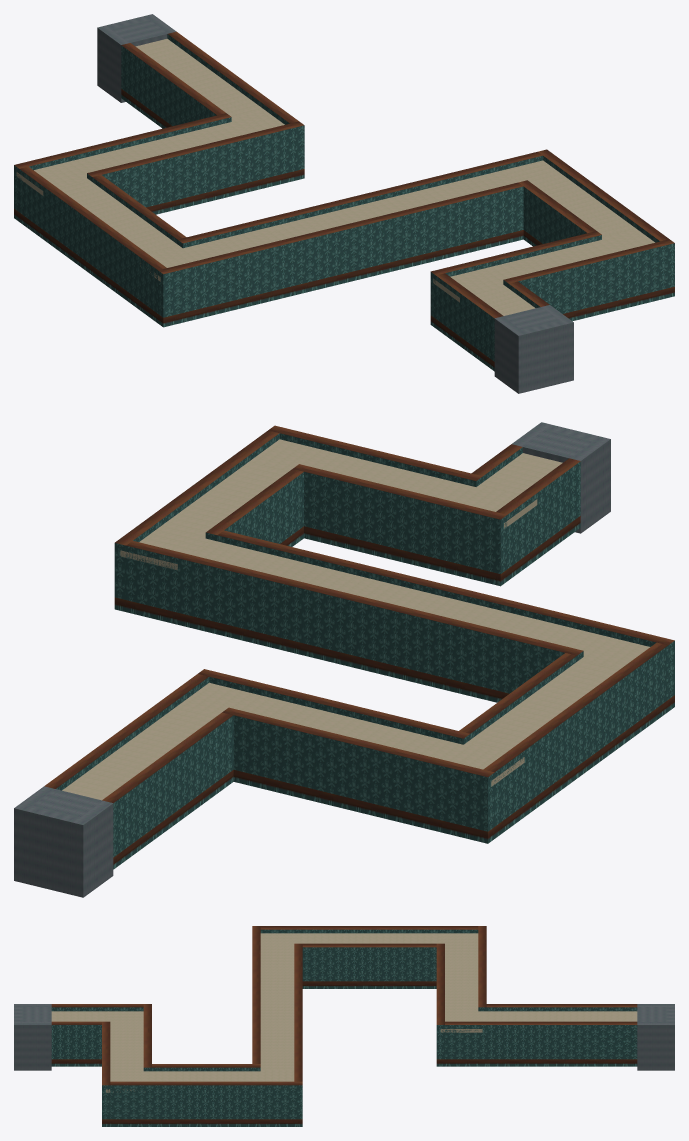
File: level4.fbx
3 renders of one model, top to bottom at view 1: azimuth 30°, elevation 25°; view 2: azimuth 150°, elevation 25°; view 3: azimuth 270°, elevation 25°, orthographic. The views are drawn at different scales.
Visible parts, largest first — view 1: Cube.027, Cube.011, Cube.022, Cube.033, Cube.026, Cube.001, Cube.003, Cube.028, Cube.005, Cube.032, Cube.030, Cube.002 (+14 smaller); view 2: Cube.028, Cube.012, Cube.034, Cube.022, Cube.001, Cube.026, Cube.003, Cube.027, Cube.014, Cube.030, Cube.032, Cube.023 (+15 smaller); view 3: Cube.025, Cube, Cube.021, Cube.026, Cube.003, Cube.032, Cube.031, Cube.022, Cube.002, Cube.023, Cube.020, Cube.006 (+15 smaller).
Boxes of the visible parts, x1=… form: Cube.027: x1=158, y1=182, x2=523, y2=327; Cube.011: x1=87, y1=121, x2=304, y2=214; Cube.022: x1=19, y1=166, x2=166, y2=323; Cube.033: x1=503, y1=239, x2=674, y2=321; Cube.026: x1=140, y1=170, x2=517, y2=281; Cube.001: x1=121, y1=43, x2=225, y2=128; Cube.003: x1=16, y1=111, x2=284, y2=195; Cube.028: x1=177, y1=151, x2=542, y2=248; Cube.005: x1=513, y1=318, x2=573, y2=393; Cube.032: x1=433, y1=228, x2=654, y2=302; Cube.030: x1=436, y1=273, x2=503, y2=371; Cube.002: x1=135, y1=38, x2=265, y2=118; Cube.028: x1=126, y1=541, x2=583, y2=702; Cube.012: x1=222, y1=707, x2=494, y2=843; Cube.034: x1=293, y1=464, x2=507, y2=586; Cube.022: x1=483, y1=642, x2=668, y2=838; Cube.001: x1=102, y1=712, x2=233, y2=869; Cube.026: x1=191, y1=540, x2=649, y2=668; Cube.003: x1=179, y1=682, x2=524, y2=786; Cube.027: x1=217, y1=530, x2=674, y2=711; Cube.014: x1=14, y1=803, x2=89, y2=897; Cube.030: x1=496, y1=458, x2=580, y2=580; Cube.032: x1=250, y1=439, x2=537, y2=528; Cube.023: x1=120, y1=461, x2=289, y2=570; Cube.025: x1=110, y1=1081, x2=302, y2=1126; Cube: x1=445, y1=1021, x2=637, y2=1066; Cube.021: x1=302, y1=943, x2=436, y2=988; Cube.026: x1=260, y1=933, x2=298, y2=1069; Cube.003: x1=440, y1=933, x2=482, y2=1032; Cube.032: x1=106, y1=1011, x2=147, y2=1092; Cube.031: x1=51, y1=1021, x2=101, y2=1066; Cube.022: x1=260, y1=926, x2=478, y2=933; Cube.002: x1=482, y1=1011, x2=637, y2=1021; Cube.023: x1=148, y1=1069, x2=294, y2=1081; Cube.020: x1=298, y1=933, x2=440, y2=943; Cube.006: x1=22, y1=1021, x2=51, y2=1070.
Bounding box in the file's own units: 18000 × 2400 × 31600.
4 materials, 4 textured.
